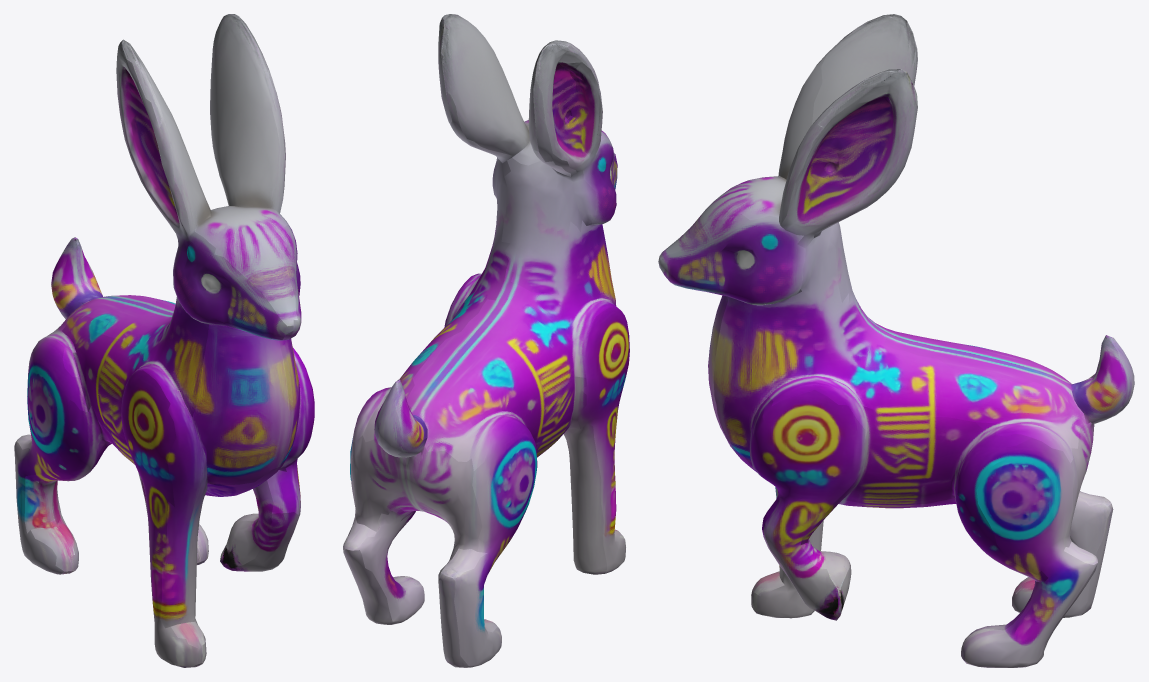
Rendered from conejo-guelaguetza.glb.
3 views of the same model, side by side, from view 1: azimuth 30°, elevation 25°; view 2: azimuth 150°, elevation 25°; view 3: azimuth 270°, elevation 25° (orthographic). The views are drawn at different scales.
Parts seen in each view (by area): view 1: world; view 2: world; view 3: world.
Boxes of the visible parts, x1,y1,x2,y2 form: world: (14, 14, 314, 667); world: (343, 14, 629, 667); world: (658, 14, 1134, 667).
Size of the model in its own units: 0.3002 by 1 by 0.7272.
1 material, 1 textured.
